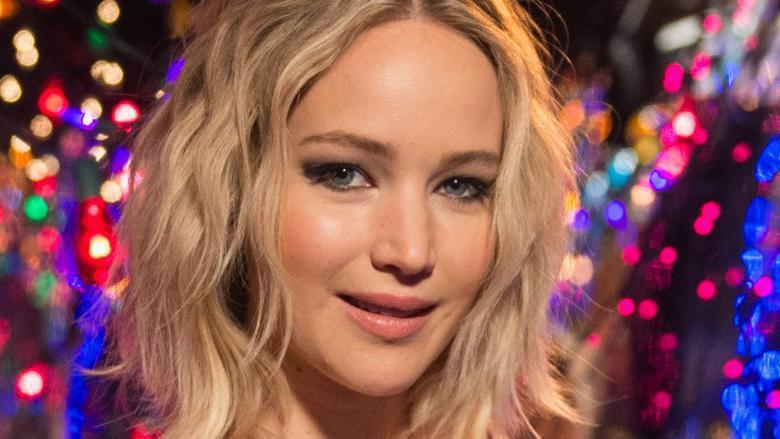Drunk: (290, 42, 493, 388)
